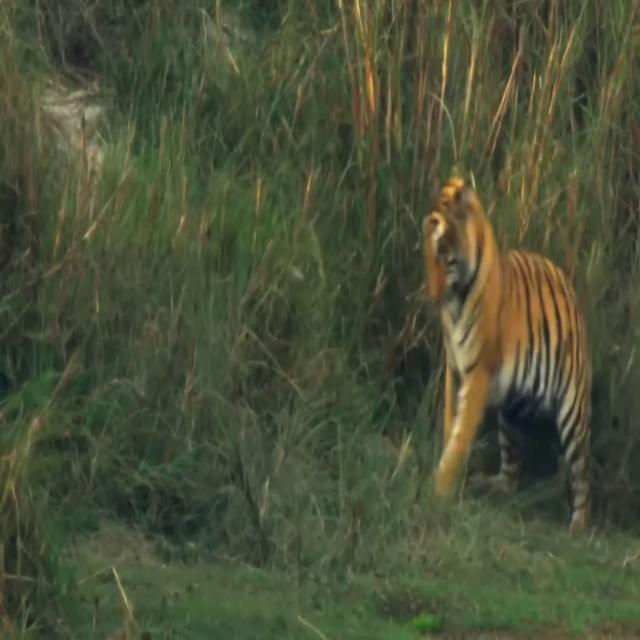tiger: (420, 174, 593, 537)
